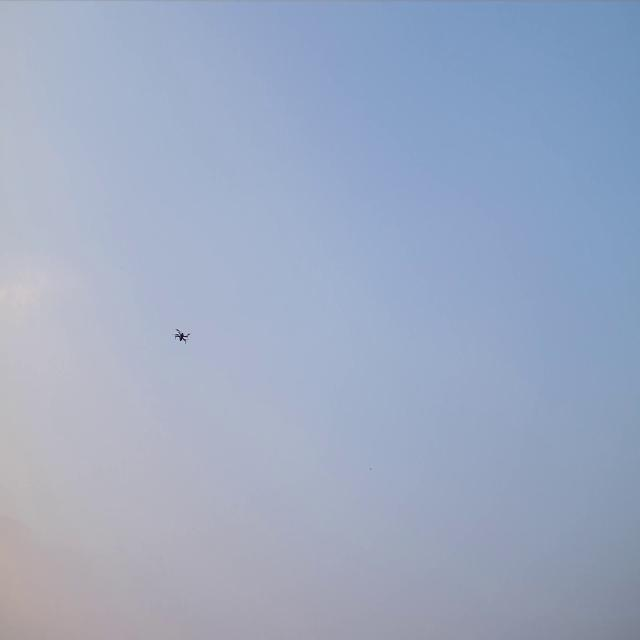UAV: (172, 324, 191, 347)
